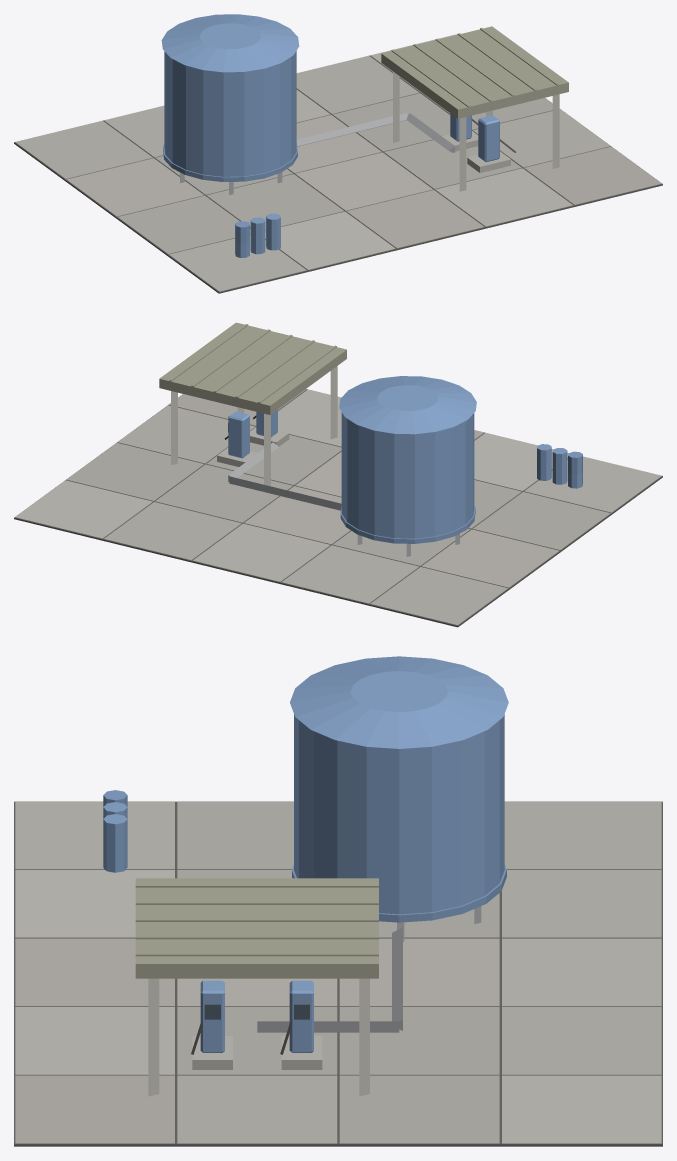
File: b_waterst.glb
3 renders of one model, top to bottom at view 1: azimuth 30°, elevation 25°; view 2: azimuth 150°, elevation 25°; view 3: azimuth 270°, elevation 25°, orthographic. The views are drawn at different scales.
Parts seen in each view (by area): view 1: hull; view 2: hull; view 3: hull.
Part boxes in pixels (box(x1,y1,x2,y2)): hull: box(14, 14, 662, 293); hull: box(14, 322, 662, 627); hull: box(14, 656, 662, 1146).
Bounding box in the file's own units: 20 × 5.85 × 16.
